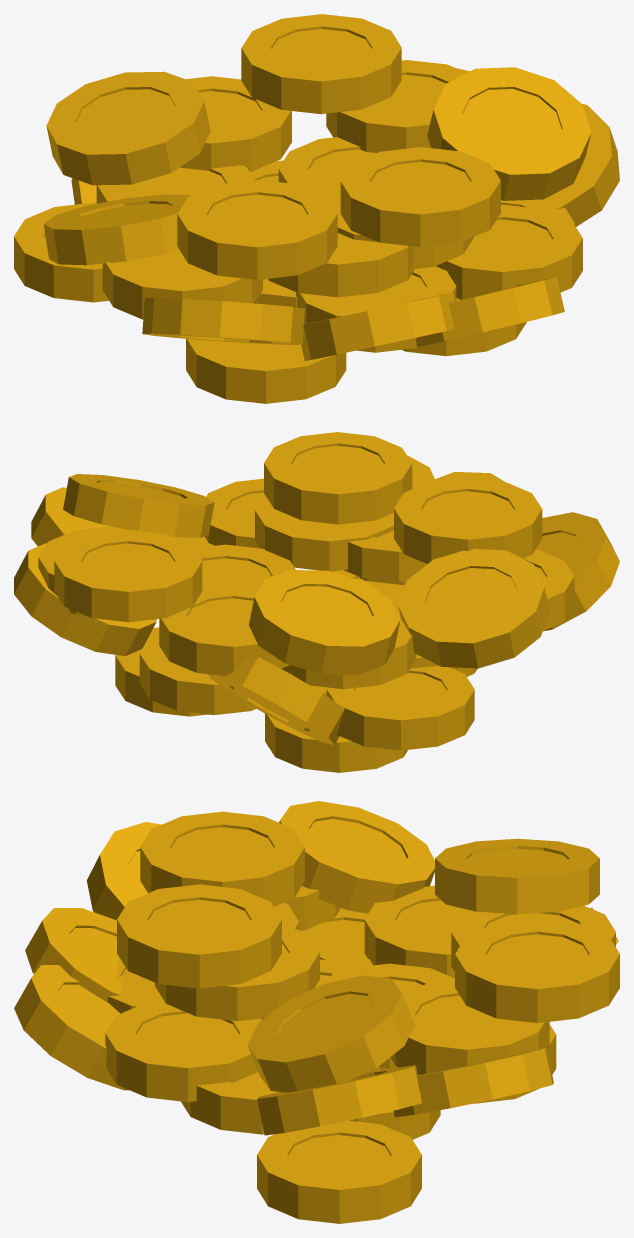
File: Money.fbx
The picture shows the model from 3 angles, top to bottom: view 1: azimuth 30°, elevation 25°; view 2: azimuth 150°, elevation 25°; view 3: azimuth 270°, elevation 25°; orthographic projection. The views are drawn at different scales.
Parts seen in each view (by area): view 1: Piece; view 2: Piece; view 3: Piece.
Boxes of the visible parts, x1,y1,x2,y2 form: Piece: (14, 14, 619, 403); Piece: (14, 432, 619, 772); Piece: (14, 801, 619, 1223).
Size of the model in its own units: 252 by 102 by 234.
